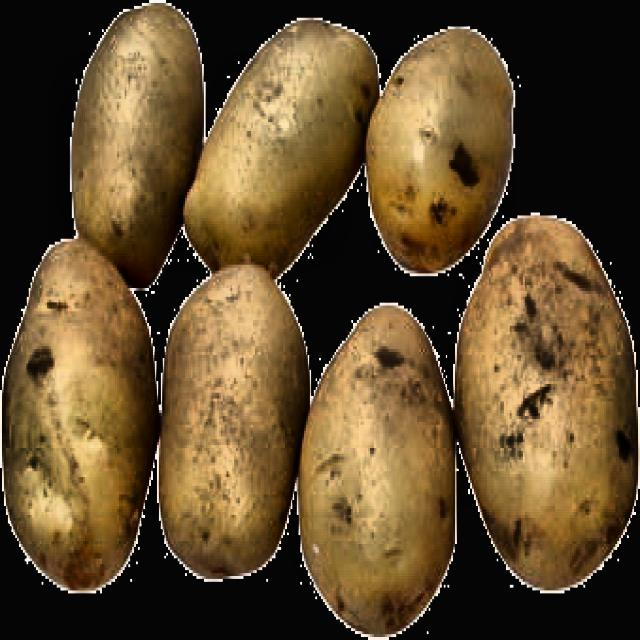potato: (11, 9, 634, 616)
